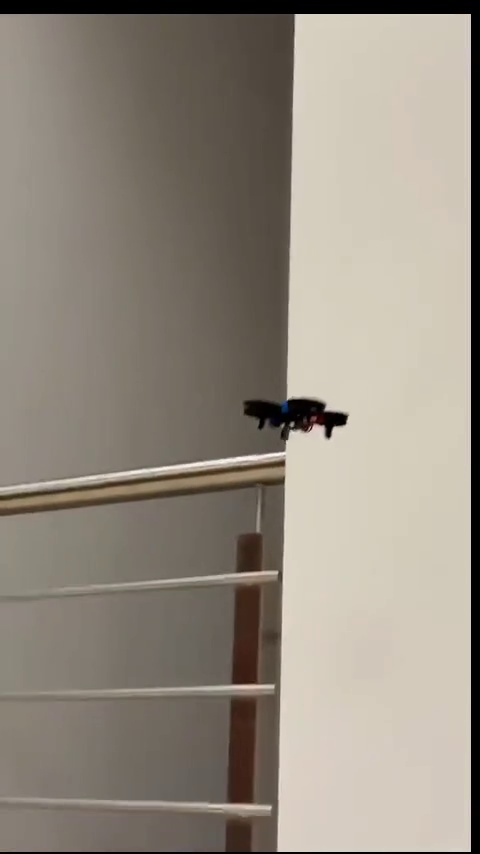drone: (244, 393, 345, 439)
